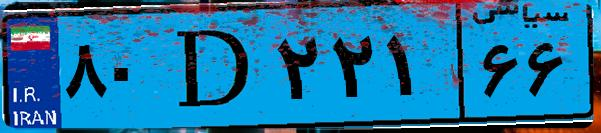0: (110, 28, 158, 98)
1: (385, 28, 445, 110)
2: (270, 28, 330, 110), (330, 28, 385, 110)
6: (475, 38, 525, 113), (525, 38, 570, 115)
8: (57, 26, 110, 100)
D: (158, 12, 270, 120)
